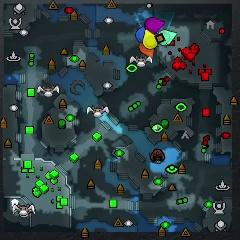p1: (136, 27, 146, 42)
p2: (158, 30, 178, 46)
p3: (145, 17, 165, 33)
p4: (143, 29, 158, 48)
p5: (139, 42, 154, 59)
